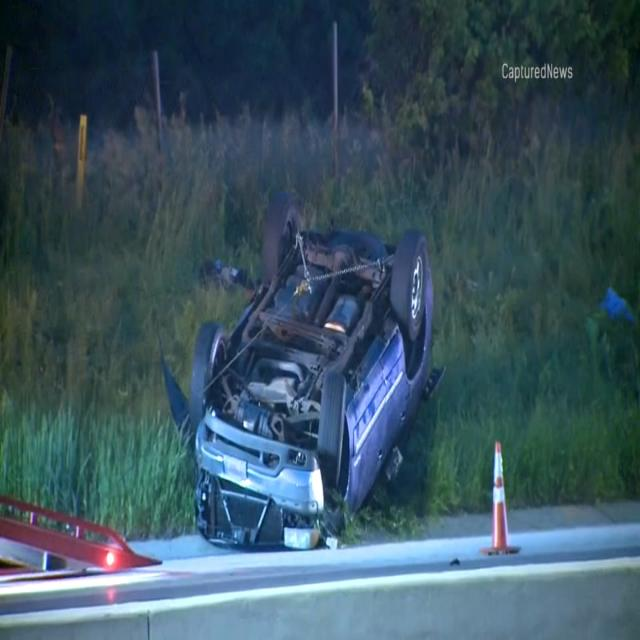accident: (151, 176, 442, 555)
